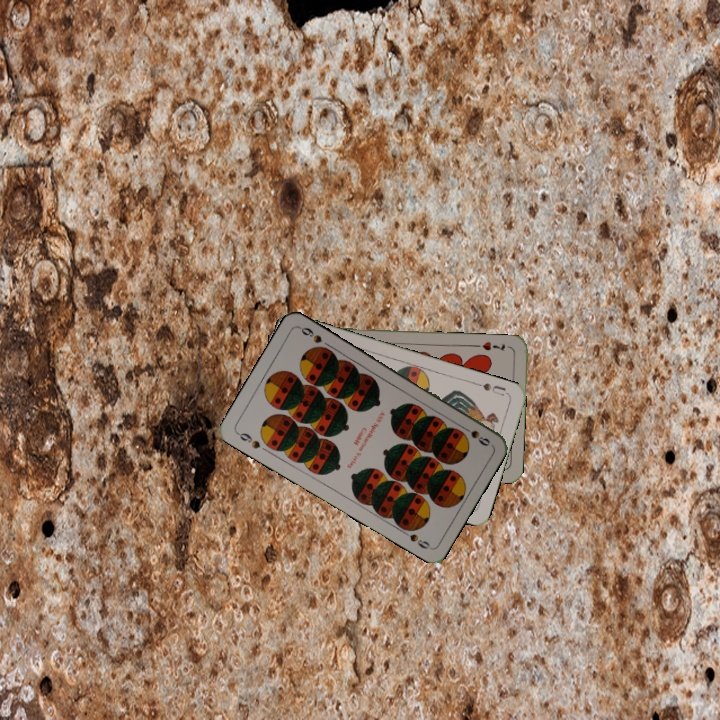H7: (478, 337, 508, 353)
S9: (456, 421, 493, 449), (233, 428, 263, 451)
SU: (471, 378, 511, 399)
